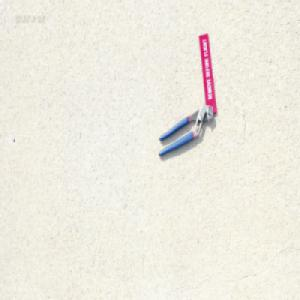Label: (198, 32, 217, 115)
Pliers: (157, 104, 213, 158)
